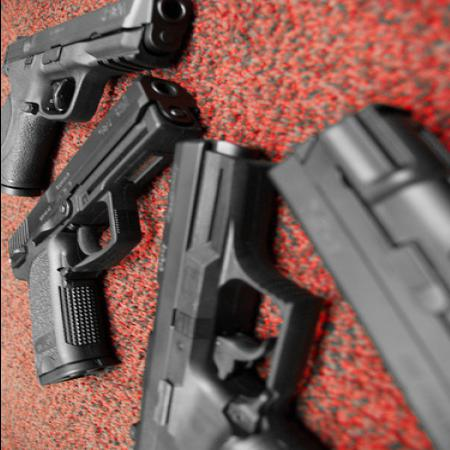Pistol: (121, 136, 342, 449), (262, 100, 446, 449), (7, 70, 203, 385)
